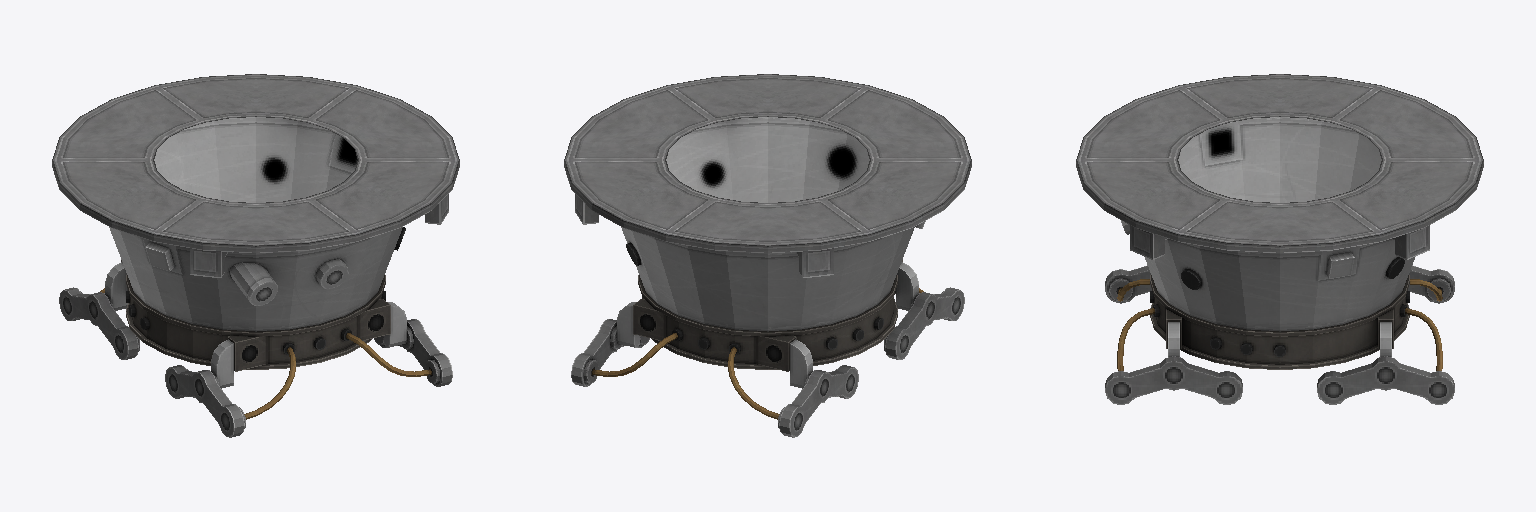
3 views of the same model, side by side, from view 1: azimuth 30°, elevation 25°; view 2: azimuth 150°, elevation 25°; view 3: azimuth 270°, elevation 25° (orthographic).
Parts seen in each view (by area): view 1: 1; view 2: 1; view 3: 1.
Boxes of the visible parts, x1,y1,x2,y2 form: 1: [52, 74, 459, 437]; 1: [564, 74, 971, 437]; 1: [1076, 74, 1483, 404].
Size of the model in its own units: 1.25 by 0.65 by 1.25.
Materials: 1 (1 with a texture image).